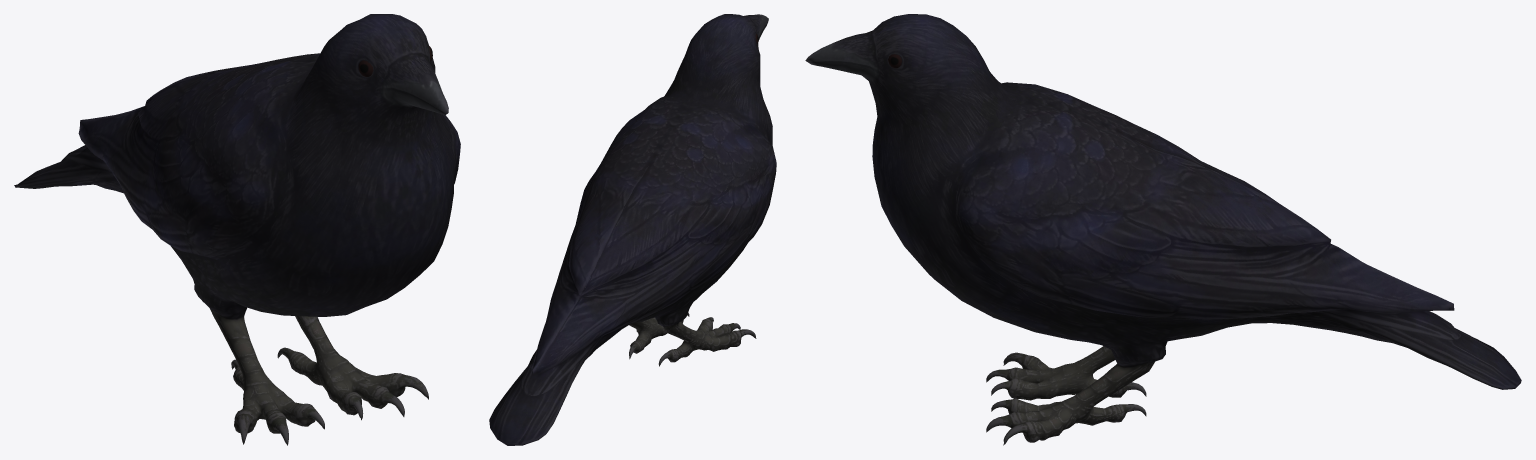
The model's file is Gagak.fbx.
3 renders of one model, left to right at view 1: azimuth 30°, elevation 25°; view 2: azimuth 150°, elevation 25°; view 3: azimuth 270°, elevation 25°, orthographic. The views are drawn at different scales.
Visible parts, largest first — view 1: Box001; view 2: Box001; view 3: Box001.
Boxes of the visible parts, x1,y1,x2,y2 form: Box001: (14,14,460,445); Box001: (489,14,776,445); Box001: (805,14,1521,445).
Size of the model in its own units: 169 by 304 by 501.
